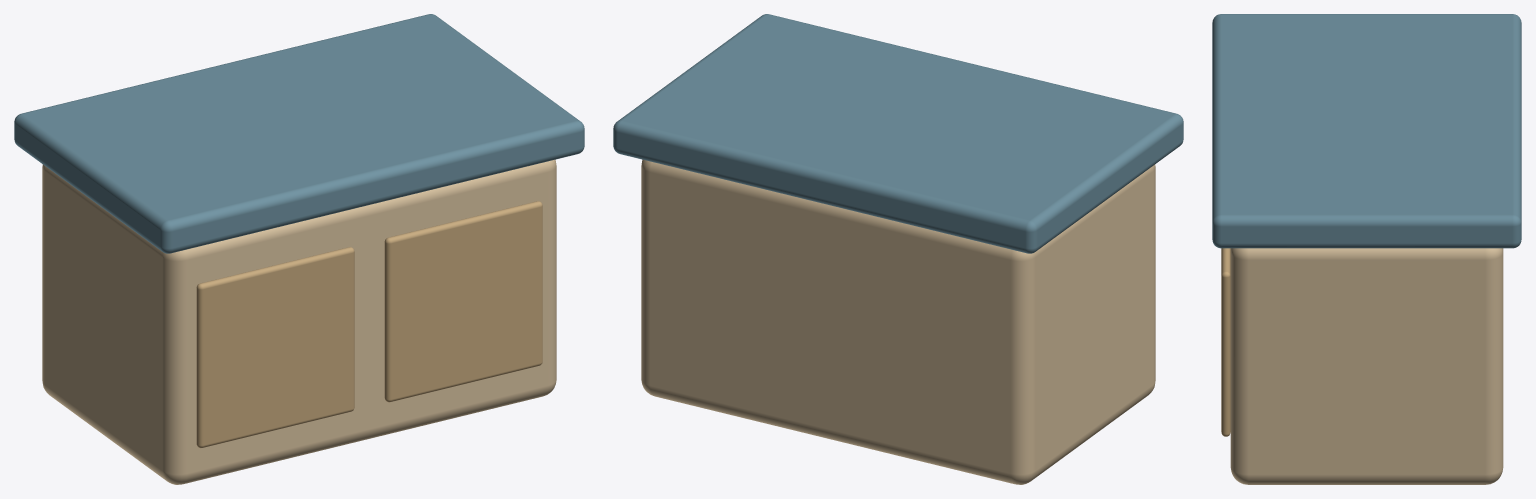
Rendered from counter.glb.
3 views of the same model, side by side, from view 1: azimuth 30°, elevation 25°; view 2: azimuth 150°, elevation 25°; view 3: azimuth 270°, elevation 25° (orthographic).
Visible parts, largest first — view 1: Top, Cabinet, DoorR, DoorL; view 2: Cabinet, Top; view 3: Top, Cabinet, DoorR.
Boxes of the visible parts, x1=… form: Top: x1=14, y1=14, x2=584, y2=253; Cabinet: x1=42, y1=159, x2=556, y2=484; DoorR: x1=384, y1=201, x2=542, y2=402; DoorL: x1=196, y1=247, x2=354, y2=448; Cabinet: x1=641, y1=159, x2=1155, y2=484; Top: x1=613, y1=14, x2=1183, y2=253; Top: x1=1212, y1=14, x2=1521, y2=248; Cabinet: x1=1230, y1=248, x2=1503, y2=484; DoorR: x1=1221, y1=248, x2=1230, y2=436.
Bounding box in the file's own units: 0.54 × 0.34 × 0.34.
